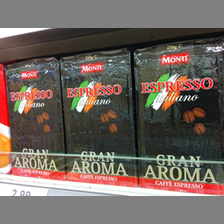coffee: (132, 39, 224, 196), (58, 48, 139, 188), (3, 56, 67, 181)
